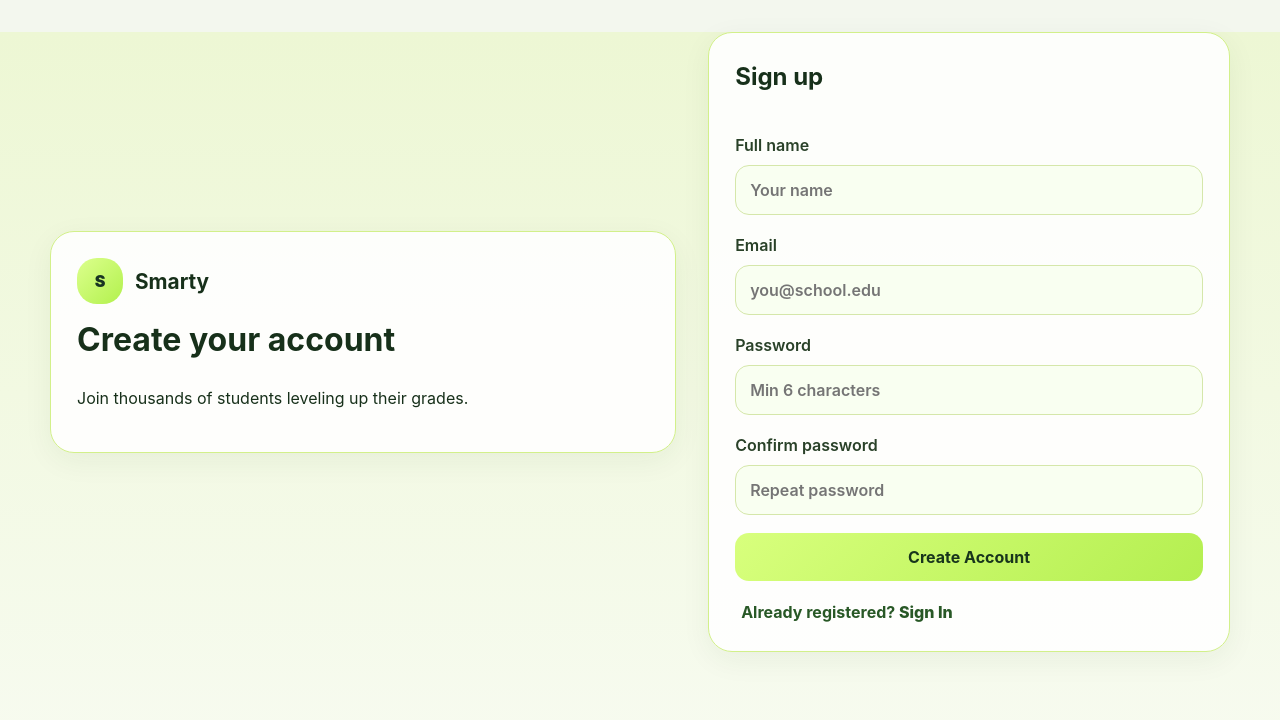
Test: registration screen › shows a duplicate account error
This screenshot has width=1280, height=720.
Step 1. Type "Grace Hopper" into the field labelled "Full name" → (969,190), box left=735, top=165, right=1203, bottom=215
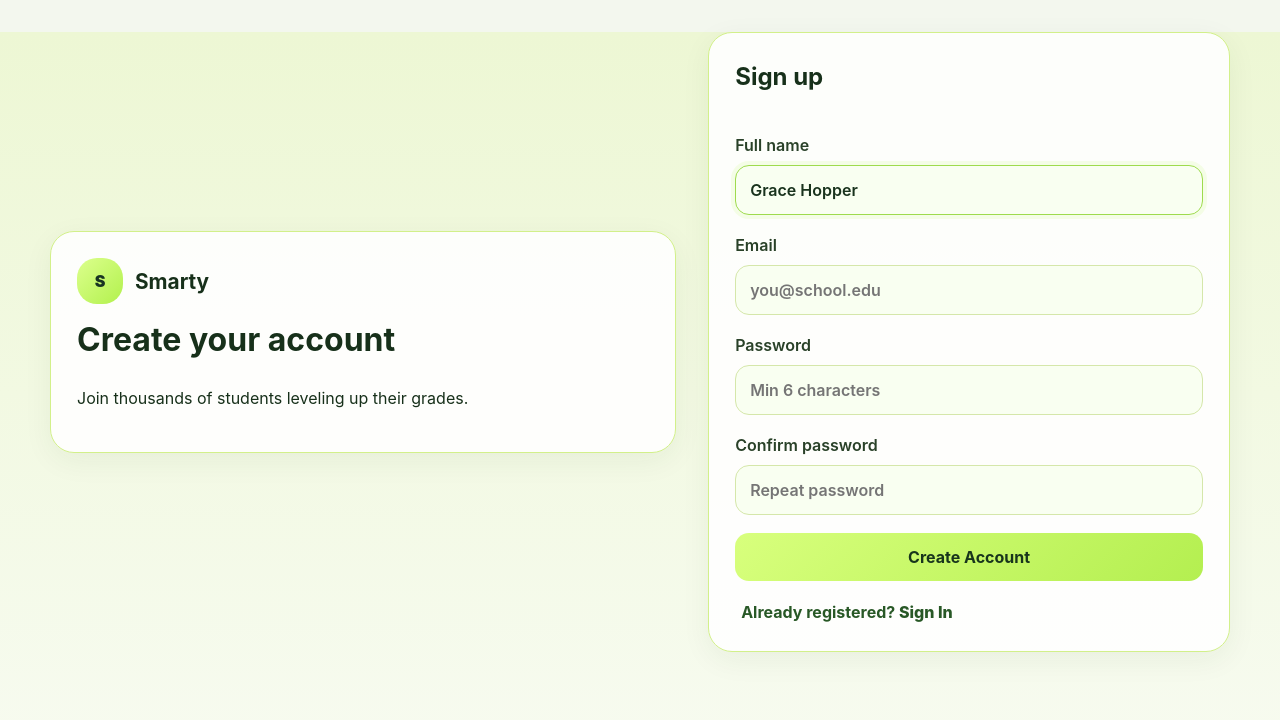
Step 2. Type "grace@example.com" into the field labelled "Email" → (969,290), box left=735, top=265, right=1203, bottom=315
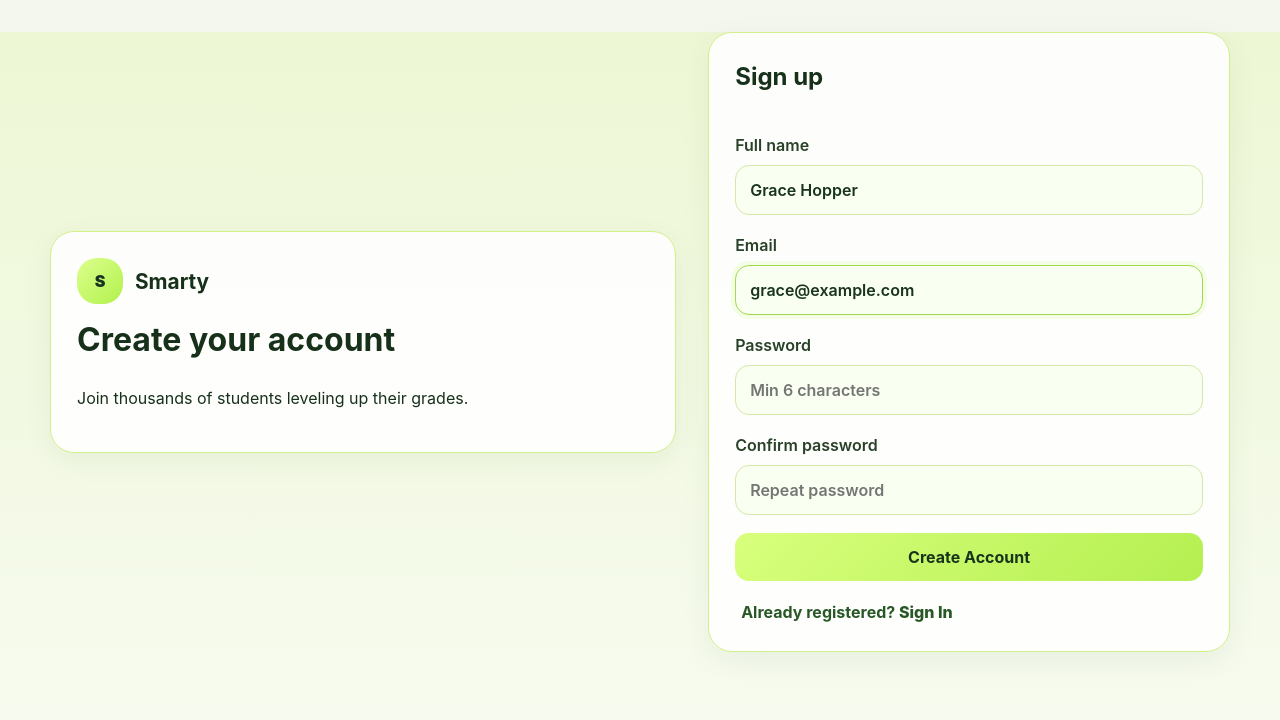
Step 3. Type "compiler123" into the password field labelled "Password" → (969,390), box left=735, top=365, right=1203, bottom=415
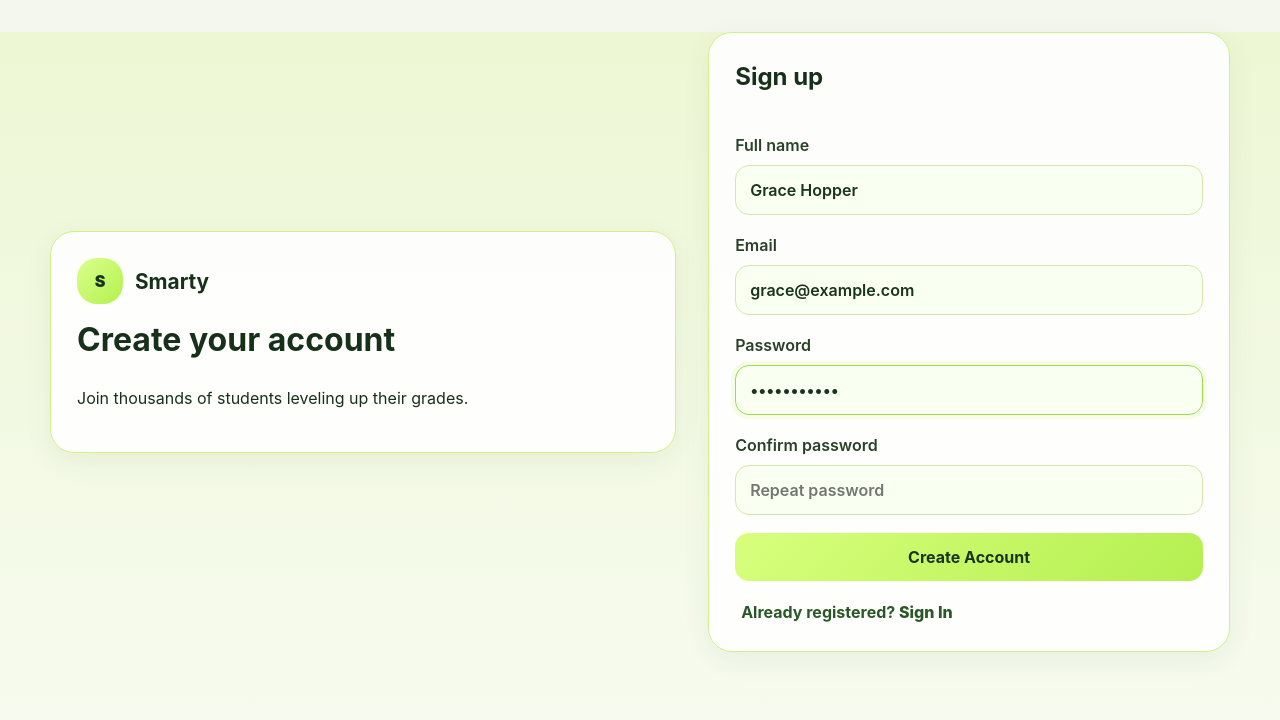
Step 4. Type "compiler123" into the password field labelled "Confirm password" → (969,490), box left=735, top=465, right=1203, bottom=515
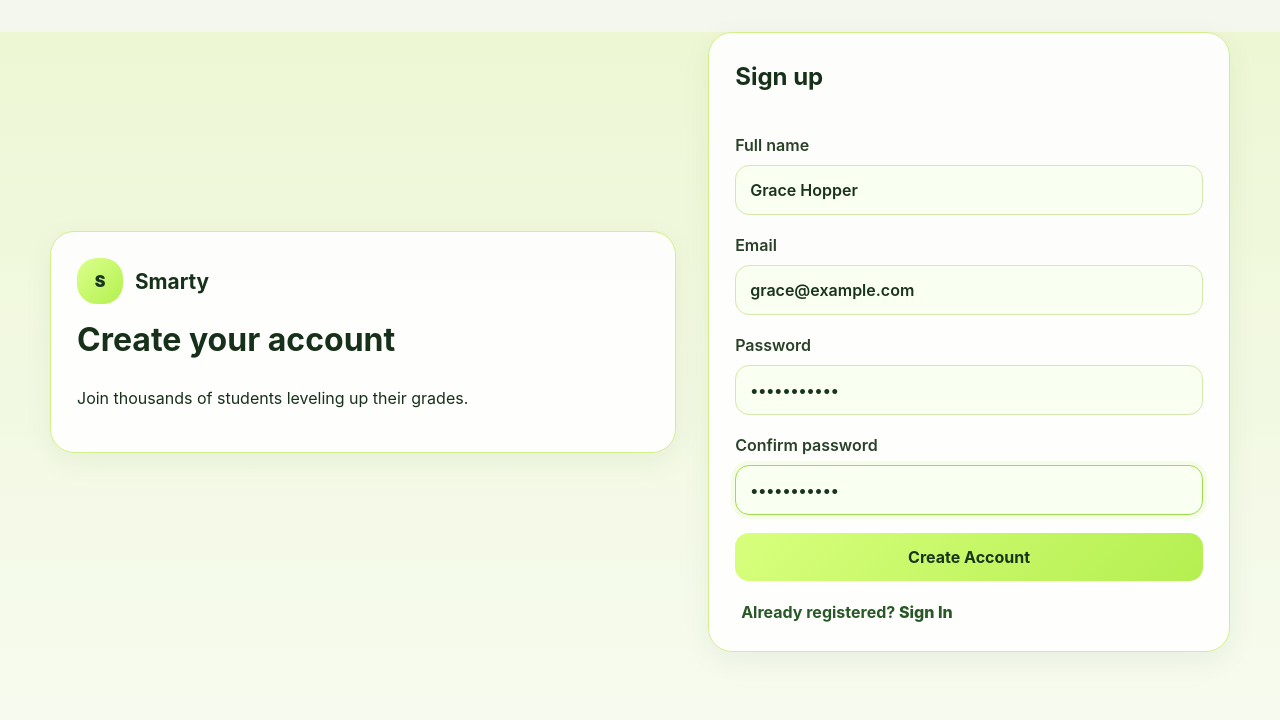
Step 5. Click the button "Create Account" → (969,557), box left=735, top=533, right=1203, bottom=581
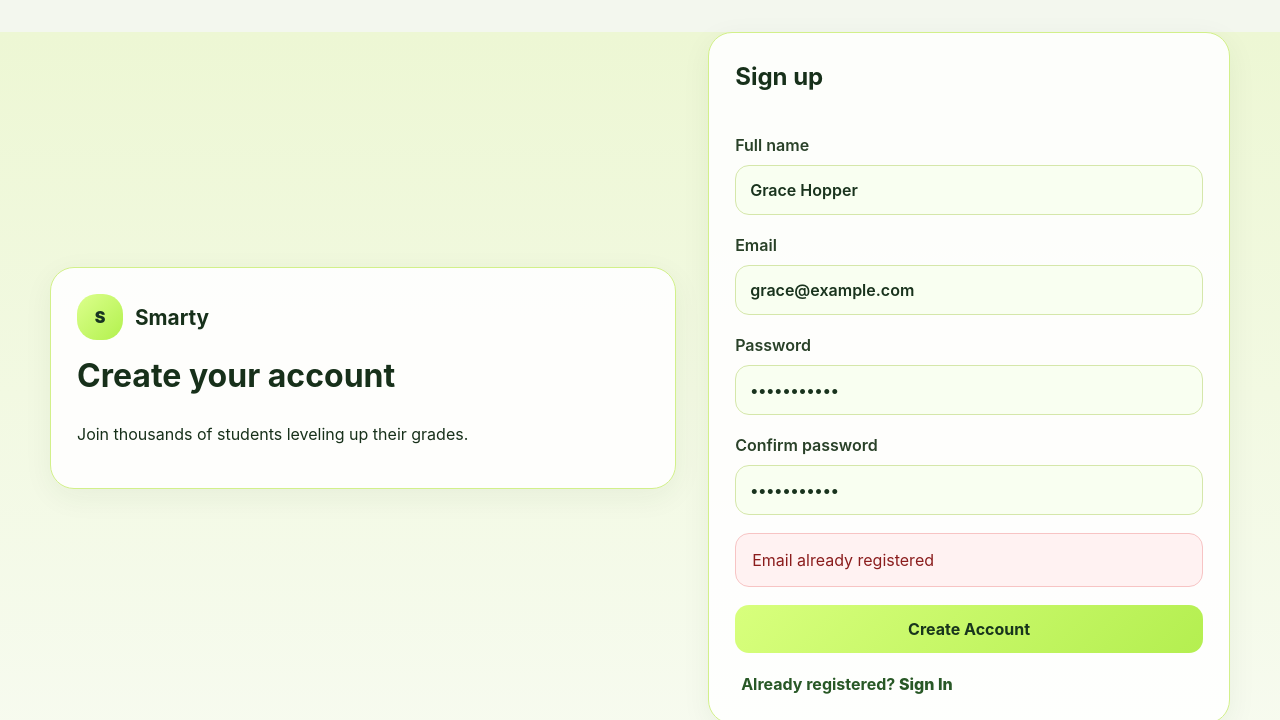
Expected: the text "Email already registered" is shown, left=752, top=550, right=934, bottom=570
